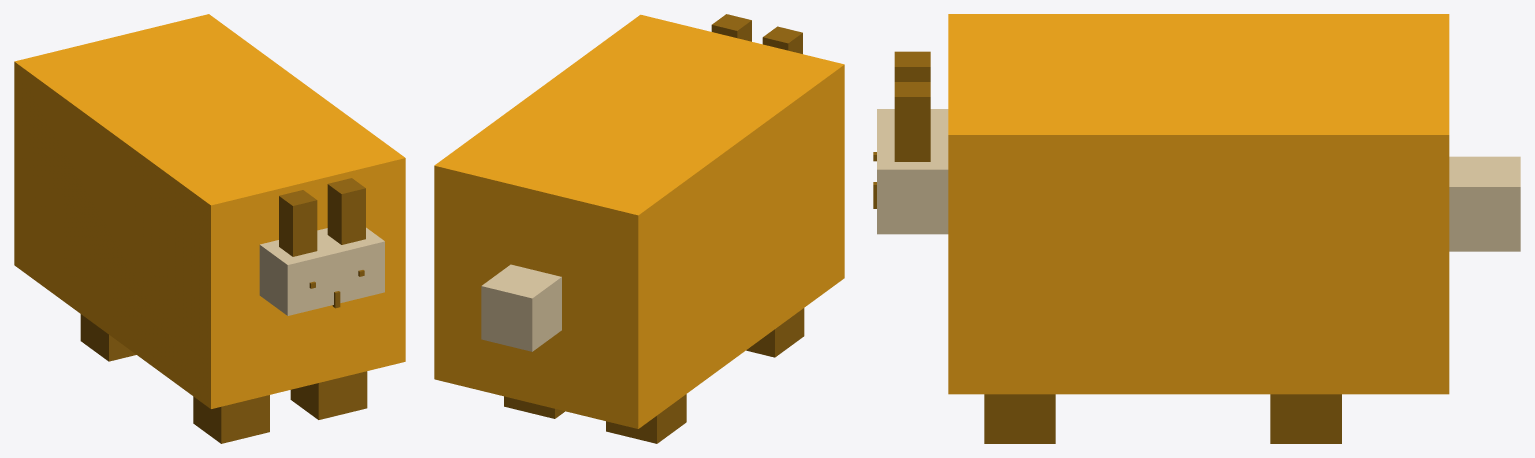
File: Scapegoat.fbx
The picture shows the model from 3 angles, left to right: view 1: azimuth 30°, elevation 25°; view 2: azimuth 150°, elevation 25°; view 3: azimuth 270°, elevation 25°; orthographic projection. The views are drawn at different scales.
Visible parts, largest first — view 1: Cube.001, Cube.007, Cube.003, Cube.002, Cube.008, Cube.009, Cube.005; view 2: Cube.001, Cube.006, Cube.005, Cube.003, Cube.008, Cube.009, Cube.004; view 3: Cube.001, Cube.007, Cube.006, Cube.002, Cube.004, Cube.008, Cube.009.
Part boxes in pixels (bbox=[...]): Cube.001: bbox=[14, 14, 405, 408]; Cube.007: bbox=[259, 227, 384, 315]; Cube.003: bbox=[193, 395, 269, 443]; Cube.002: bbox=[290, 371, 367, 419]; Cube.008: bbox=[327, 178, 365, 244]; Cube.009: bbox=[279, 190, 317, 256]; Cube.005: bbox=[80, 314, 136, 361]; Cube.001: bbox=[434, 14, 844, 428]; Cube.006: bbox=[481, 264, 561, 351]; Cube.005: bbox=[606, 394, 686, 443]; Cube.003: bbox=[746, 308, 804, 357]; Cube.008: bbox=[711, 14, 751, 41]; Cube.009: bbox=[762, 26, 802, 53]; Cube.004: bbox=[504, 396, 564, 418]; Cube.001: bbox=[948, 14, 1449, 394]; Cube.007: bbox=[877, 109, 948, 234]; Cube.006: bbox=[1449, 156, 1520, 251]; Cube.002: bbox=[984, 394, 1055, 443]; Cube.004: bbox=[1270, 394, 1341, 443]; Cube.008: bbox=[894, 82, 930, 161]; Cube.009: bbox=[894, 51, 930, 81].
Size of the model in its own units: 80 by 100 by 181.
